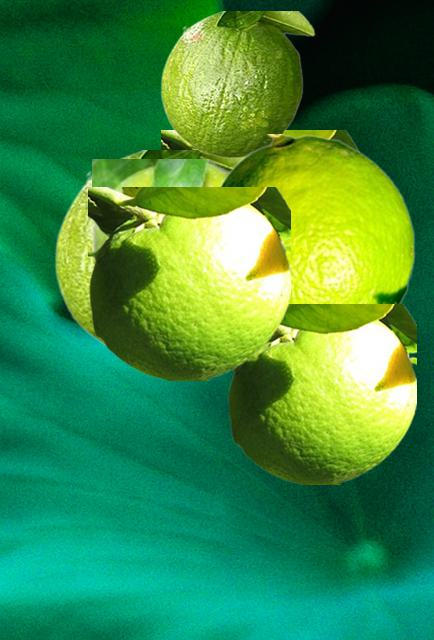dalandan: (88, 187, 289, 379), (54, 150, 240, 346), (227, 304, 415, 483), (217, 134, 414, 303), (160, 11, 314, 157), (92, 159, 230, 264), (161, 130, 358, 149)
